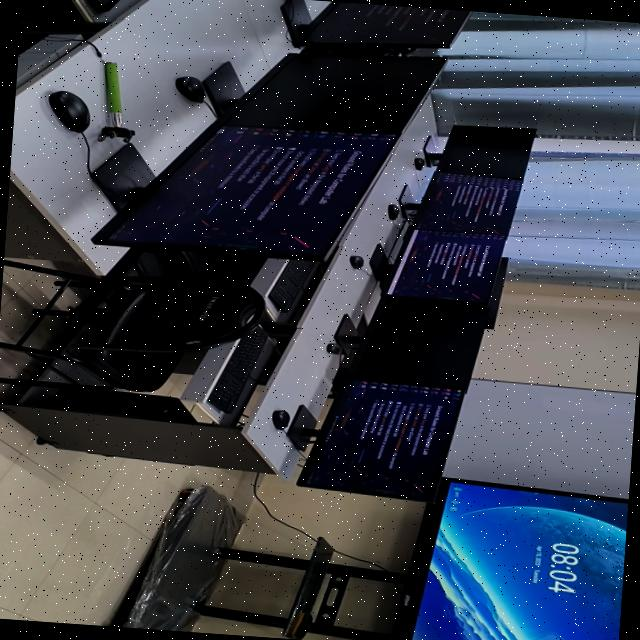Chair: (0, 259, 263, 390)
Digital board: (388, 477, 628, 640)
Keyboard: (209, 325, 267, 412), (268, 258, 319, 311), (88, 0, 118, 10)
Monitor: (109, 124, 395, 254), (297, 378, 464, 500), (220, 53, 446, 132), (353, 294, 487, 387), (387, 229, 505, 302), (295, 0, 472, 47), (415, 170, 521, 234), (439, 124, 536, 177)
Mouse: (49, 89, 89, 131), (176, 75, 206, 101), (272, 409, 290, 429), (350, 254, 364, 268), (388, 203, 399, 219), (414, 156, 426, 169), (335, 345, 340, 351)
